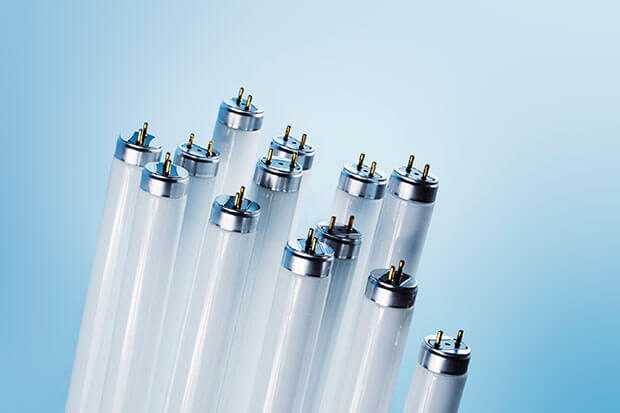Light_bulb: (61, 118, 163, 413), (158, 182, 265, 413), (101, 150, 190, 413), (254, 225, 335, 413), (338, 259, 421, 413), (368, 151, 443, 274), (404, 322, 475, 413)
